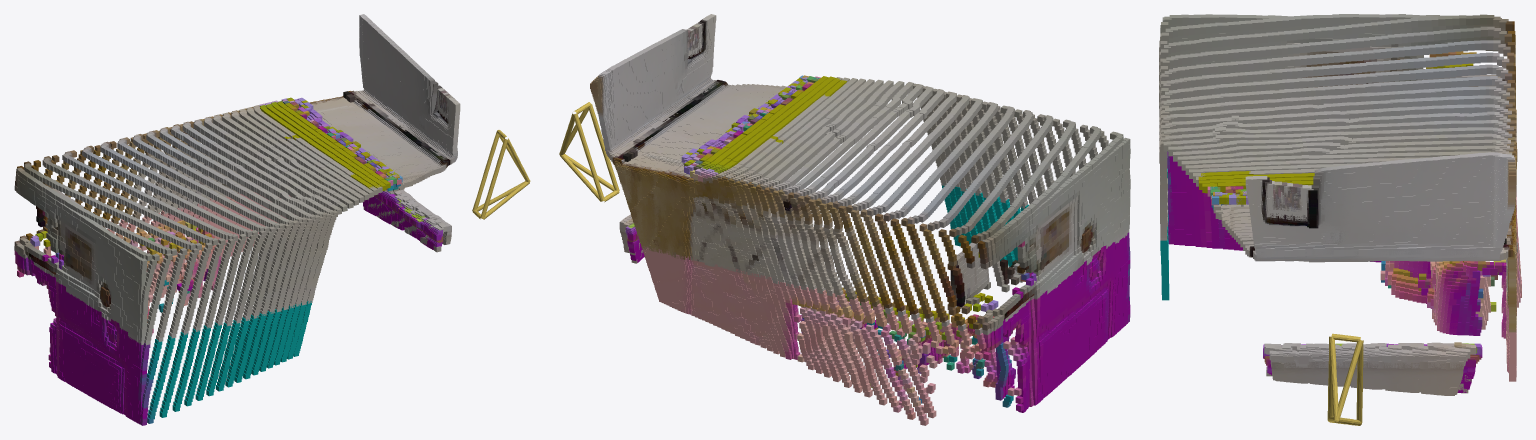
The picture shows the model from 3 angles, left to right: view 1: azimuth 30°, elevation 25°; view 2: azimuth 150°, elevation 25°; view 3: azimuth 270°, elevation 25°; orthographic projection. The views are drawn at different scales.
Bounding box in the file's own units: 4.89 × 2.55 × 2.49.
